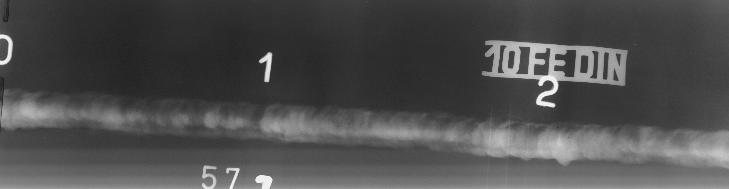FF: (9, 84, 155, 108), (170, 123, 310, 147), (3, 122, 164, 142)
IE: (596, 148, 610, 158)
PO: (556, 126, 560, 130), (568, 136, 571, 138)
